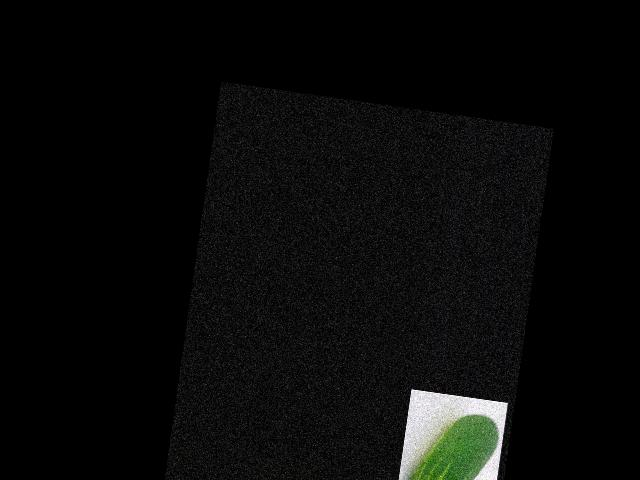cucumber: (404, 406, 501, 480)
